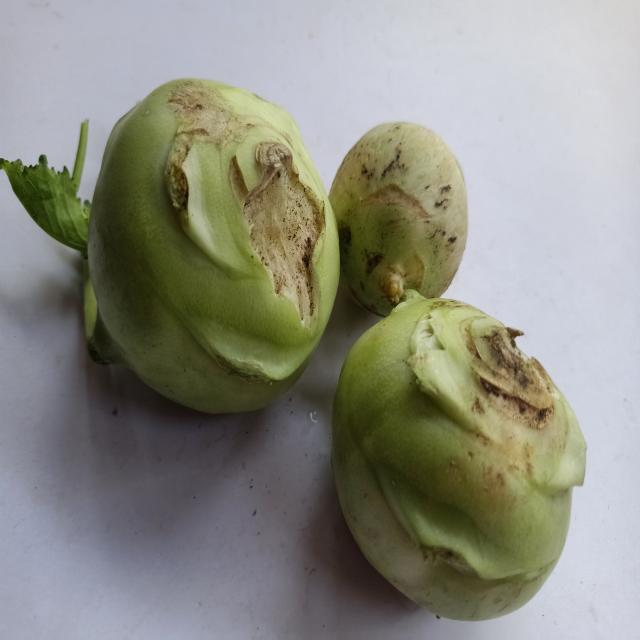Turnip: (3, 73, 341, 429), (330, 285, 590, 626), (328, 119, 474, 318)
